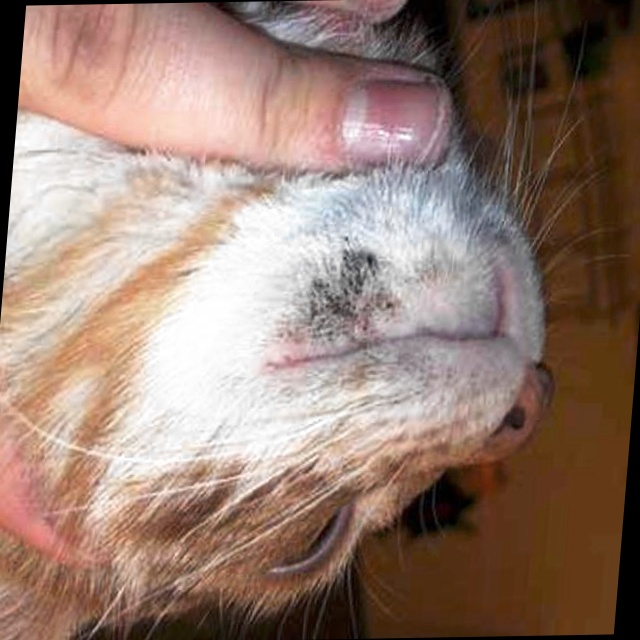acne: (298, 244, 401, 343)
